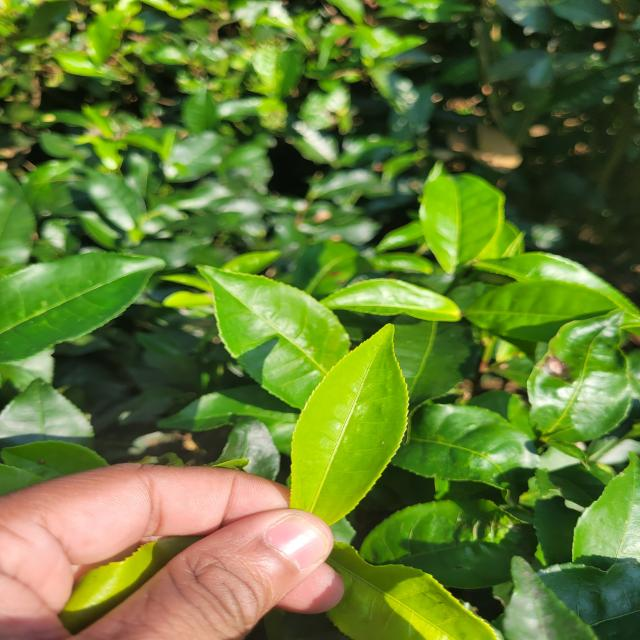Catagory A(1-2 days): (274, 309, 428, 537)
